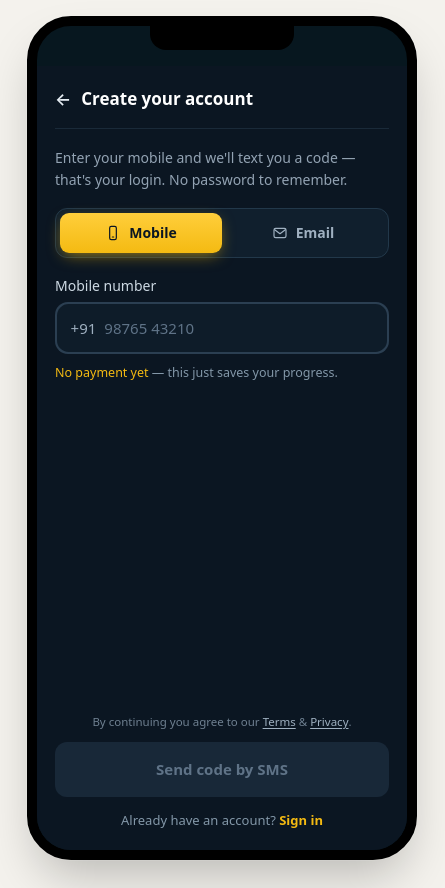
CreateAccount › sending a phone code advances to the OTP step
In the field with placeholder "98765 43210": (226, 328) [104, 317, 347, 339], type "9876543210"
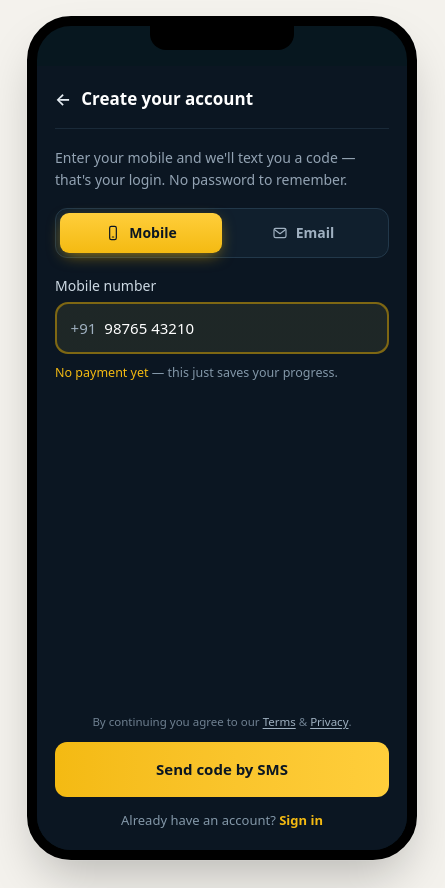
Click the button "Send code by SMS": (222, 769) [55, 742, 389, 796]
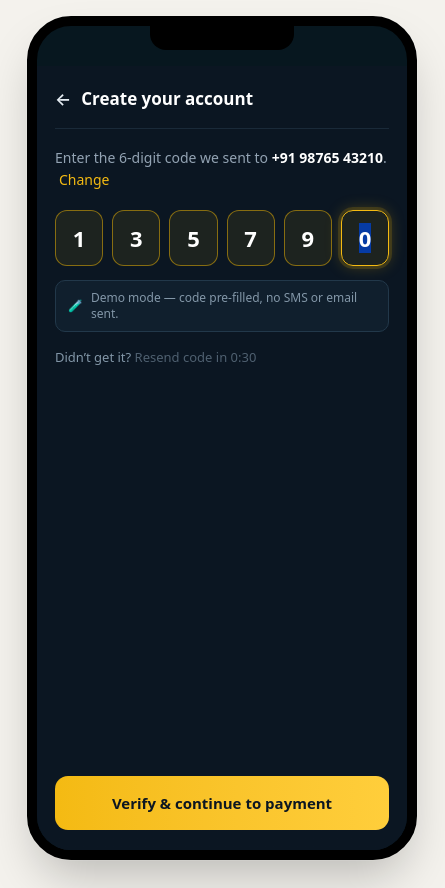
Check: the button "Verify & continue to payment" is shown, box [55, 776, 389, 830]
